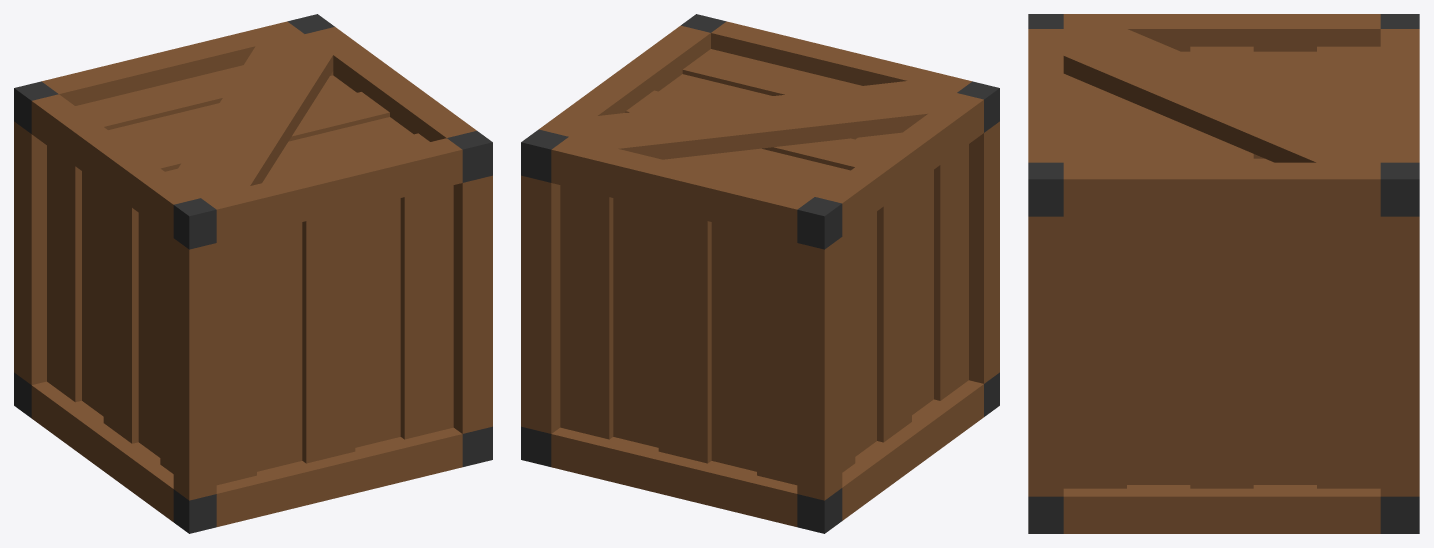
File: woodBoxProp.fbx
The picture shows the model from 3 angles, left to right: view 1: azimuth 30°, elevation 25°; view 2: azimuth 150°, elevation 25°; view 3: azimuth 270°, elevation 25°; orthographic projection. The views are drawn at different scales.
Parts seen in each view (by area): view 1: WoodBoxMesh; view 2: WoodBoxMesh; view 3: WoodBoxMesh.
Boxes of the visible parts, box(x1,y1,x2,y2) form: WoodBoxMesh: box(14, 14, 492, 533); WoodBoxMesh: box(521, 14, 999, 533); WoodBoxMesh: box(1028, 14, 1419, 533).
Bounding box in the file's own units: 200 × 200 × 200.
